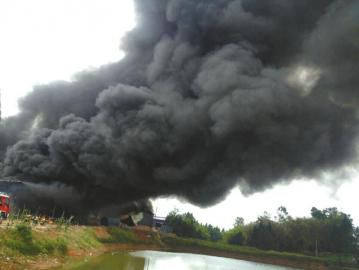smoke: (20, 8, 346, 187)
